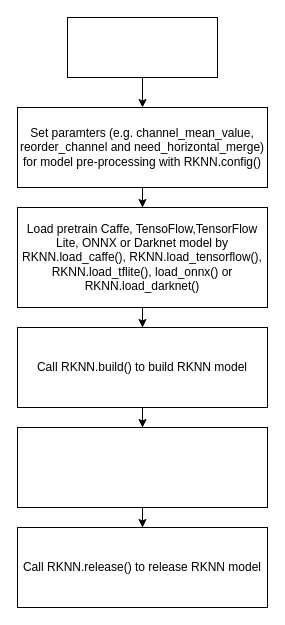
This 285x625 diagram has some shape labels left out. Each missing label, with the centre of its shape:
"Call RKNN.export() to export RKNN model" belongs at [142,467].
"Create RKNN instance" belongs at [142,47].
